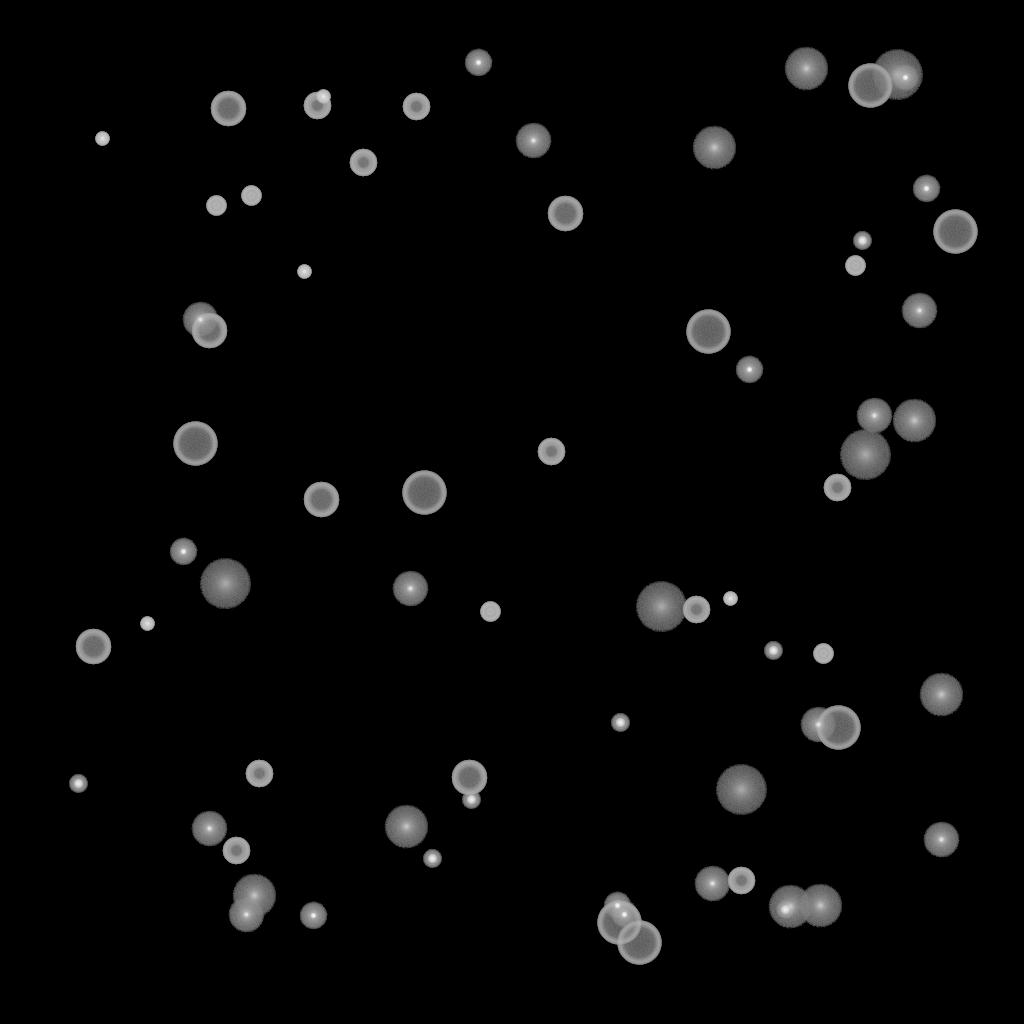depth:-10: (299, 902, 327, 930), (464, 49, 492, 77), (891, 64, 919, 92), (169, 538, 197, 566), (603, 892, 631, 920), (610, 901, 638, 929), (735, 356, 763, 384), (912, 175, 940, 203)
depth:-20: (423, 850, 441, 868), (611, 714, 629, 732), (764, 642, 782, 660), (776, 901, 794, 919), (853, 232, 871, 250), (462, 791, 480, 809), (69, 775, 87, 793)
depth:-30: (297, 265, 311, 279), (140, 617, 154, 631), (316, 90, 330, 104), (95, 132, 109, 146), (723, 592, 737, 606)
depth:-40: (813, 644, 833, 664), (845, 256, 865, 276), (241, 186, 261, 206), (206, 196, 226, 216), (480, 602, 500, 622)
depth:-50: (727, 867, 755, 895), (682, 596, 710, 624), (823, 474, 851, 502), (222, 837, 250, 865), (537, 438, 565, 466), (303, 92, 331, 120), (349, 149, 377, 177), (402, 93, 430, 121), (245, 760, 273, 788)
depth:-60: (547, 196, 583, 232), (75, 629, 111, 665), (303, 482, 339, 518), (210, 91, 246, 127), (191, 313, 227, 349), (451, 760, 487, 796)
depth:-70: (848, 64, 892, 108), (402, 471, 446, 515), (816, 706, 860, 750), (597, 901, 641, 945), (173, 422, 217, 466), (686, 310, 730, 354), (617, 921, 661, 965), (933, 210, 977, 254)
depth:0: (901, 293, 937, 329), (228, 897, 264, 933), (923, 822, 959, 858), (694, 866, 730, 902), (515, 123, 551, 159), (191, 811, 227, 847), (856, 398, 892, 434), (800, 707, 836, 743), (182, 302, 218, 338), (392, 571, 428, 607)
depth:10: (892, 399, 936, 443), (919, 673, 963, 717), (784, 47, 828, 91), (232, 874, 276, 918), (798, 884, 842, 928), (384, 805, 428, 849), (768, 885, 812, 929), (692, 126, 736, 170)
depth:20: (199, 559, 251, 609), (871, 50, 923, 100), (635, 582, 687, 632), (715, 765, 767, 815), (839, 430, 891, 480)
